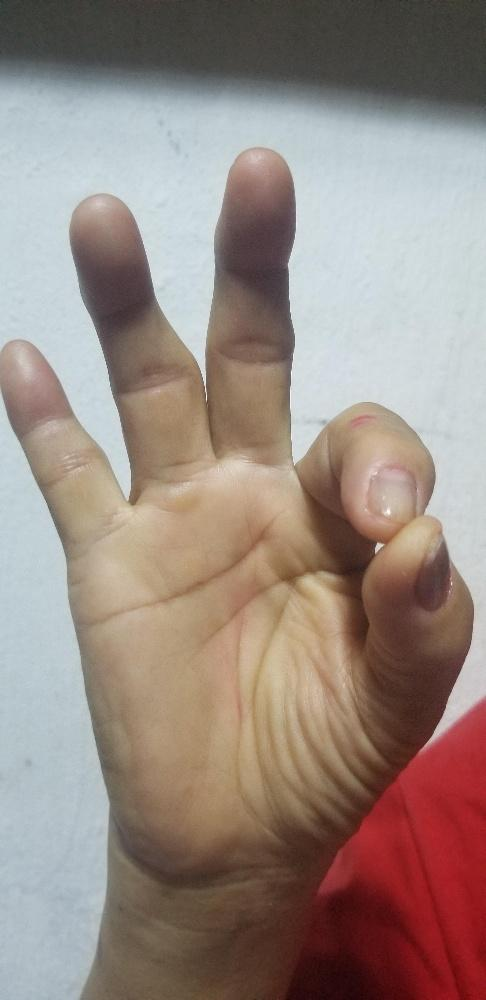e: (0, 150, 472, 863)
